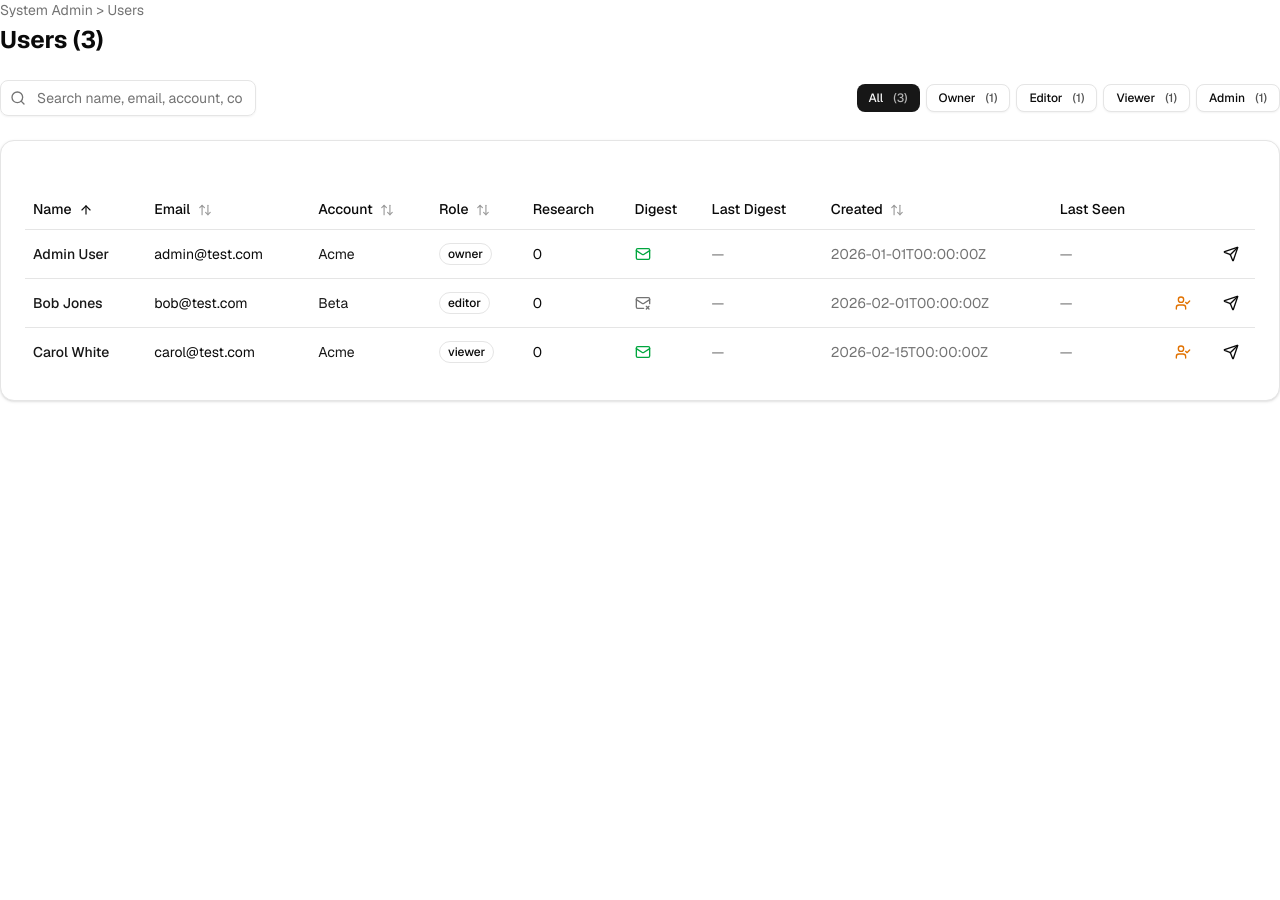
Test case: UsersListPage — Impersonation › clicking impersonate button shows confirmation dialog
Expected: the link "Bob Jones" is shown, [33,294,103,312]
Click the button titled "Impersonate Bob Jones" at coordinates (1183, 302), box [1167,286,1199,318]
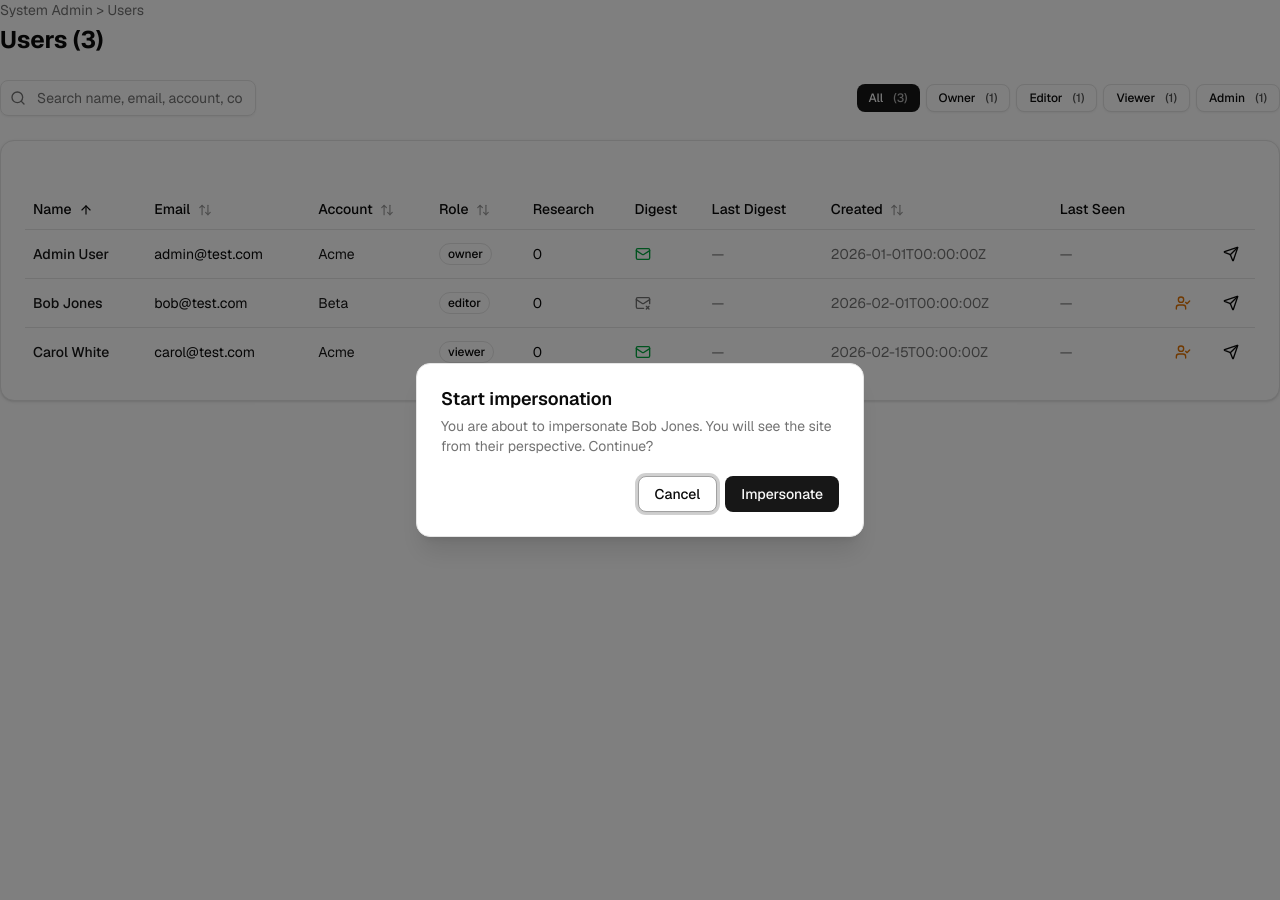
Expected: the heading "Start impersonation" is shown, [441,387,612,410]
Expected: the text "You are about to impersonate Bob Jones" is shown, [441,417,832,455]
